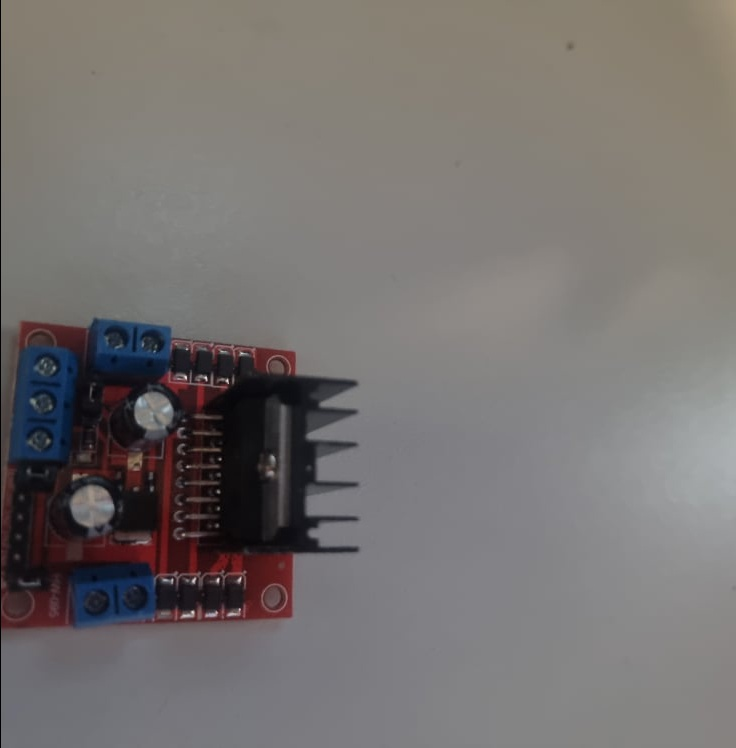MOTOR: (0, 318, 361, 632)
